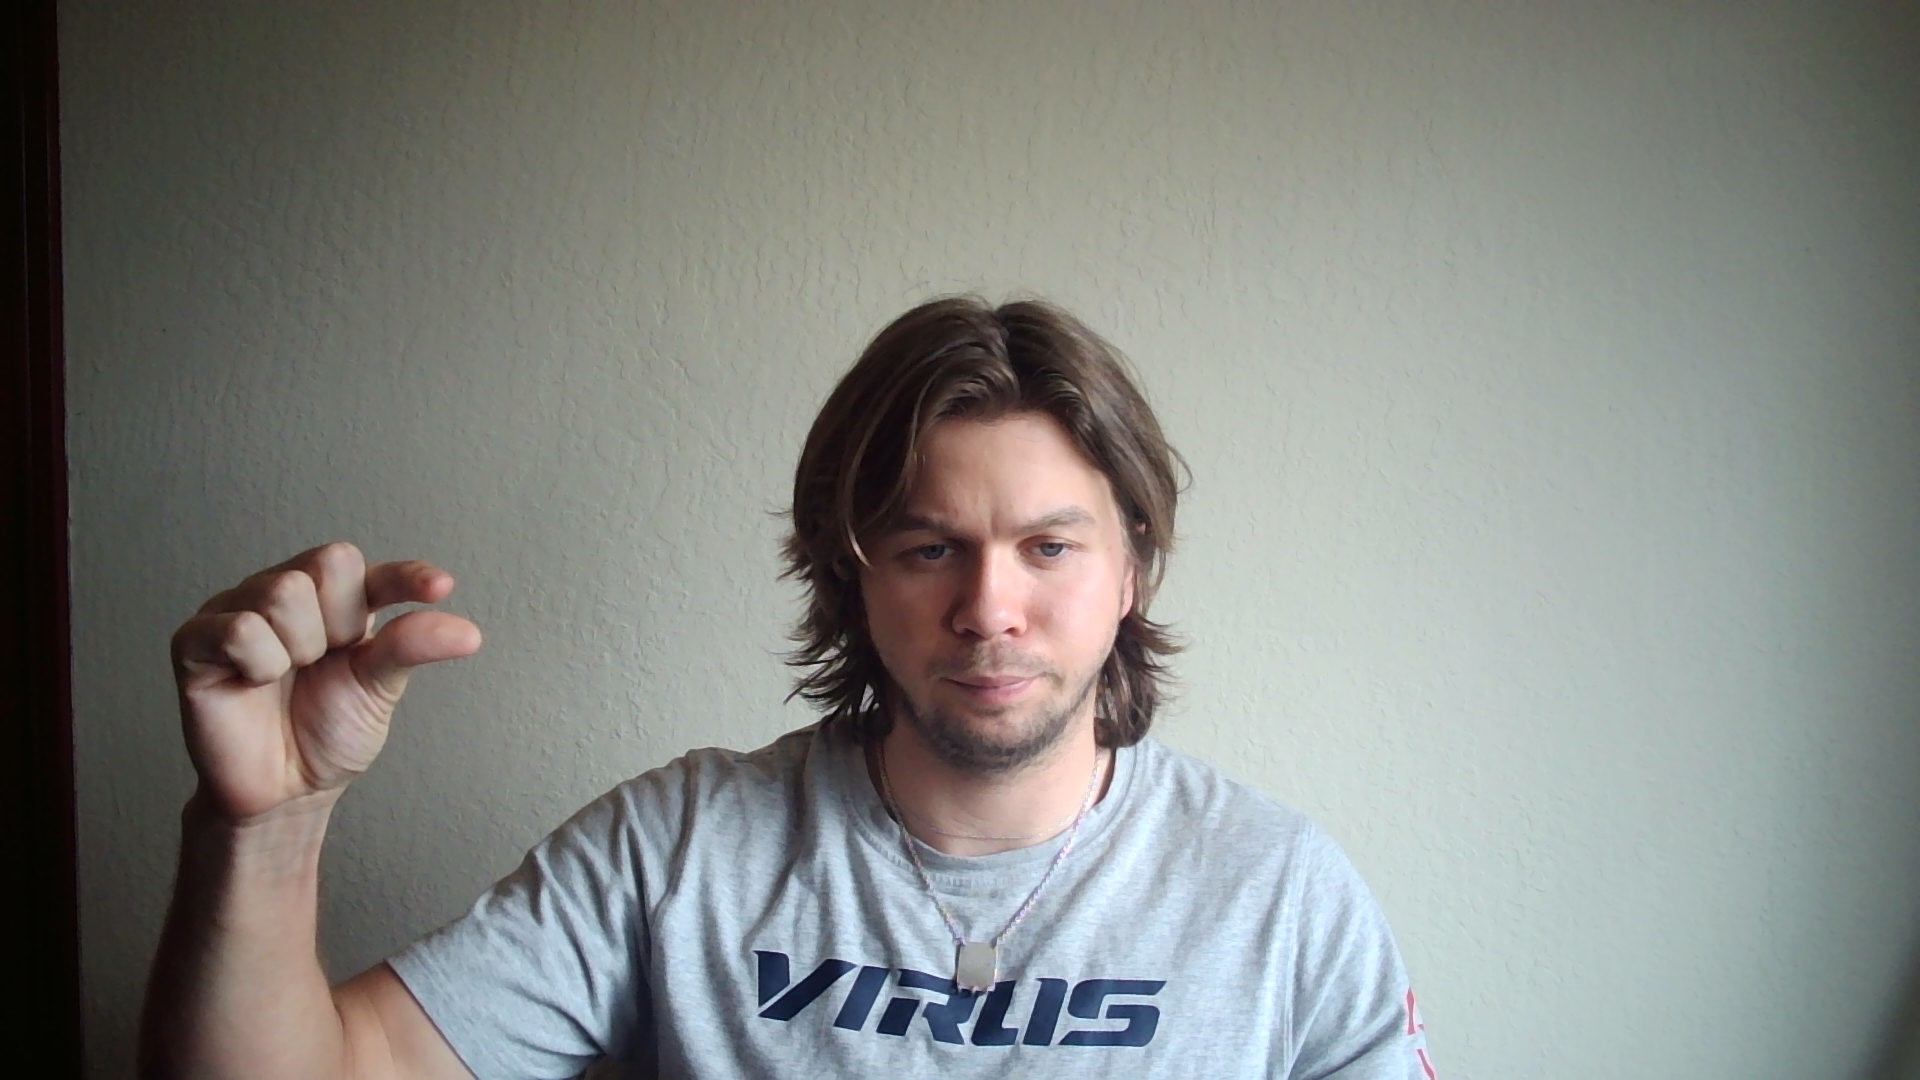small: (174, 542, 481, 796)
